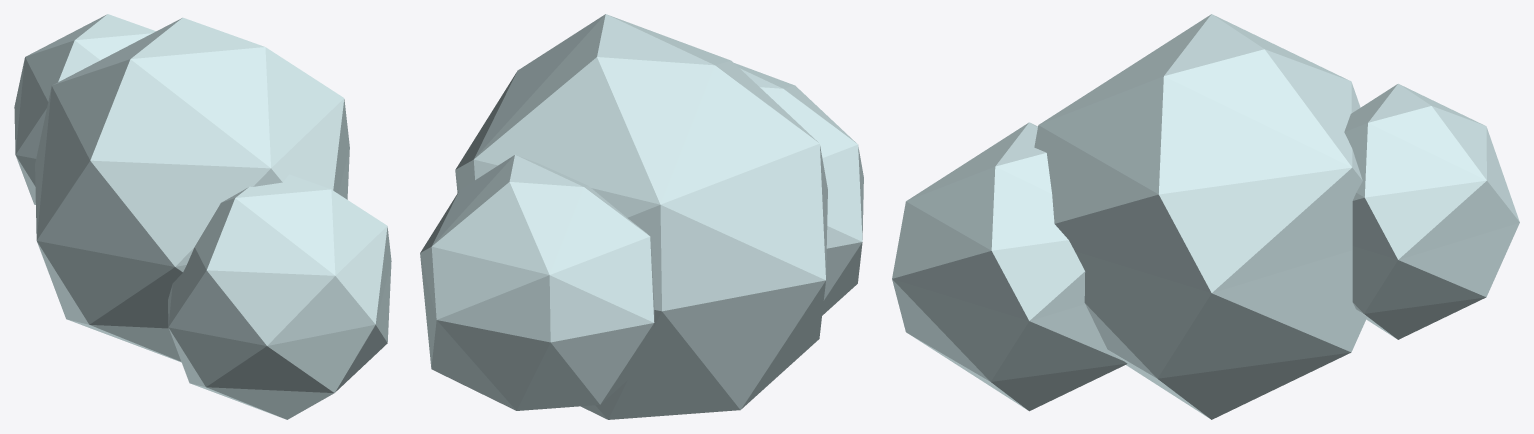
Rendered from normalcloud.dae.
3 views of the same model, side by side, from view 1: azimuth 30°, elevation 25°; view 2: azimuth 150°, elevation 25°; view 3: azimuth 270°, elevation 25° (orthographic). The views are drawn at different scales.
Parts seen in each view (by area): view 1: cloud; view 2: cloud; view 3: cloud.
Part boxes in pixels (<box>): cloud: <box>14,14,391,419</box>; cloud: <box>420,14,863,419</box>; cloud: <box>892,14,1519,419</box>.
Size of what is drawn, in the model's own units: 3.3 by 5.11 by 3.15.
